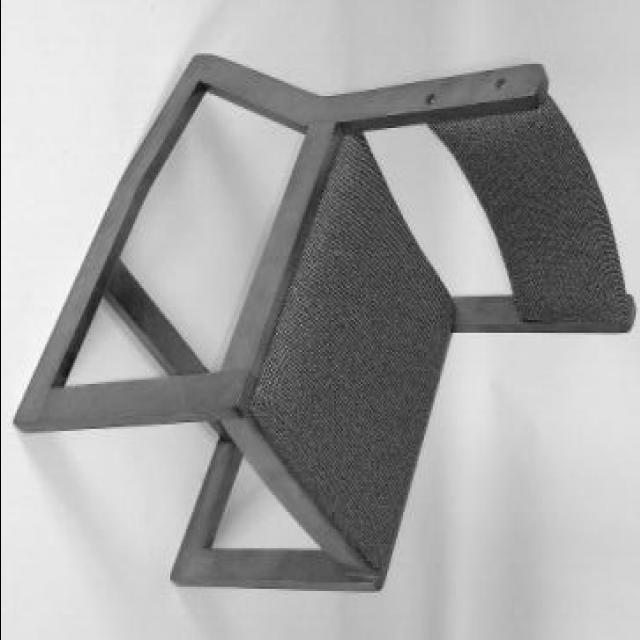chair: (13, 52, 634, 598)
